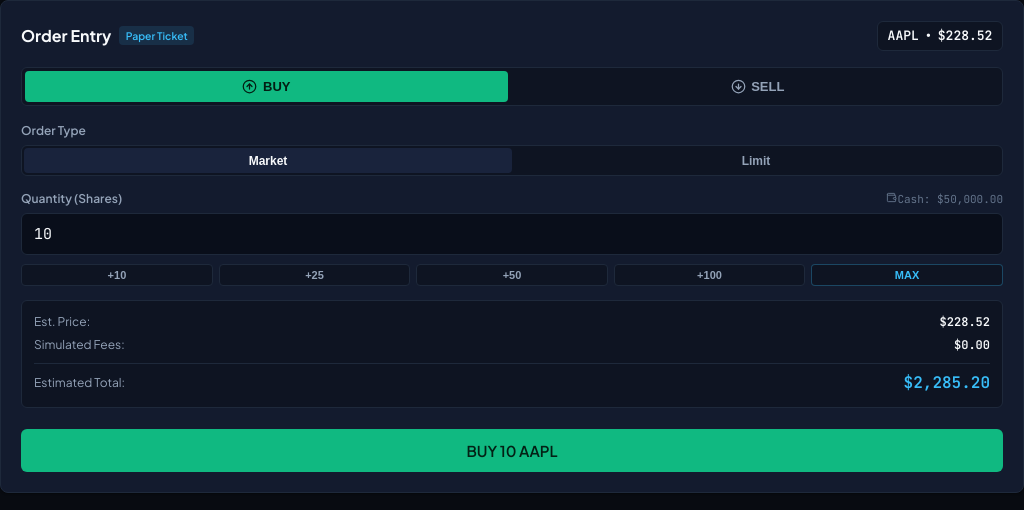
Test: UI Component Tests › OrderTicket › toggles between BUY and SELL sides
What coordinates should you click on to do the following:
click the tab "SELL"
I would click on:
 (758, 86)
Its box is [516,70,999,102].
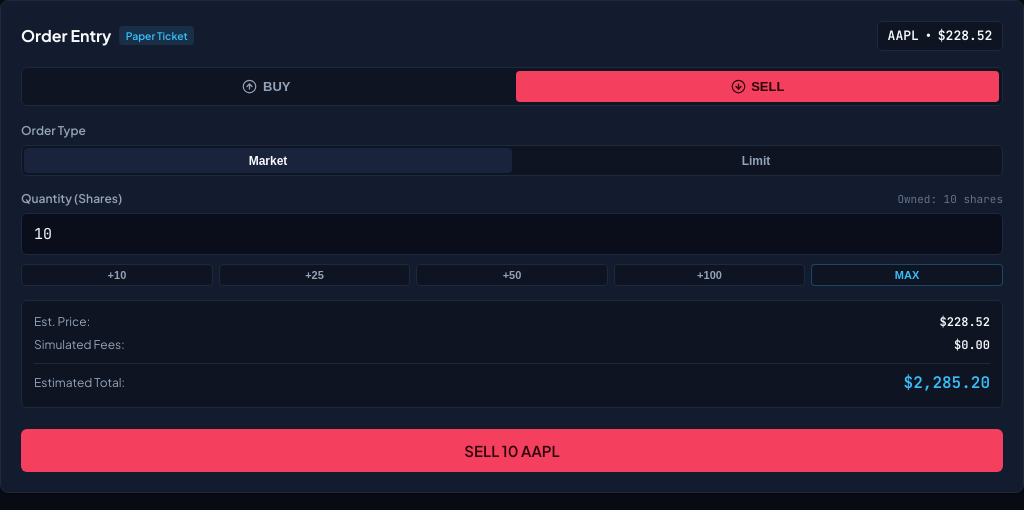
Expected: the text "SELL 10 AAPL" is shown, [464,441,560,460]
